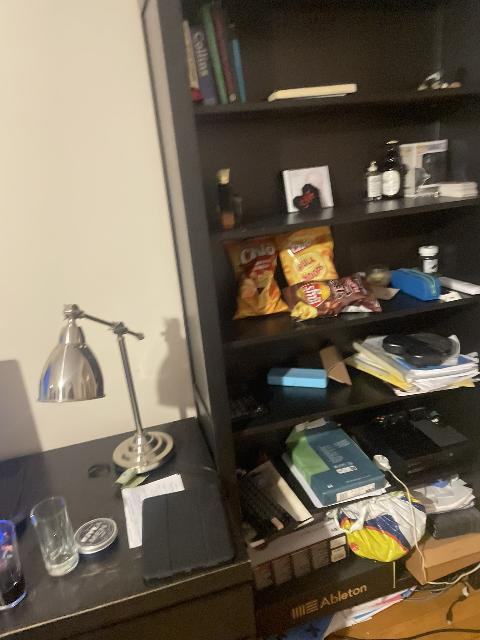Chio Cascaval 125g: (222, 235, 287, 320)
Chio Hula Hoops Cheese 70g: (276, 226, 337, 288)
Lays Beef Grilled Ribs 125g: (280, 273, 379, 320)
